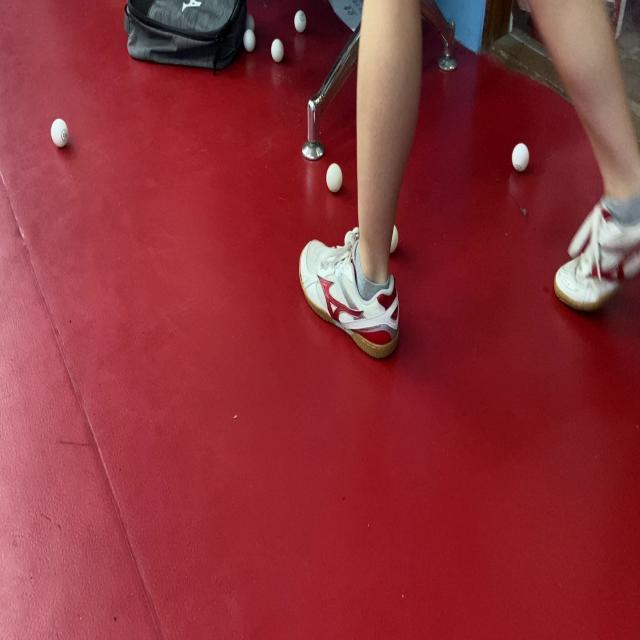ping-pong-ball: (48, 114, 72, 151), (510, 138, 532, 174), (324, 162, 344, 194), (270, 36, 286, 64), (242, 26, 257, 54), (292, 10, 308, 34)
